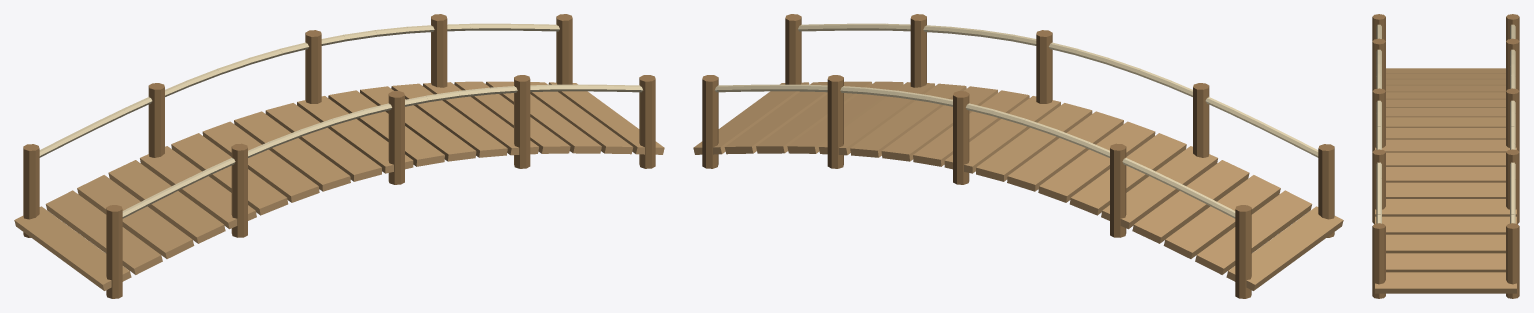
The model's file is WoodenBridge.fbx.
3 renders of one model, left to right at view 1: azimuth 30°, elevation 25°; view 2: azimuth 150°, elevation 25°; view 3: azimuth 270°, elevation 25°, orthographic. The views are drawn at different scales.
Visible parts, largest first — view 1: WoodenBridge; view 2: WoodenBridge; view 3: WoodenBridge.
Boxes of the visible parts, <box> form: WoodenBridge: <box>14,14,664,298</box>; WoodenBridge: <box>693,14,1343,298</box>; WoodenBridge: <box>1372,14,1519,298</box>.
Bounding box in the file's own units: 8.43 × 1.9 × 2.38.
